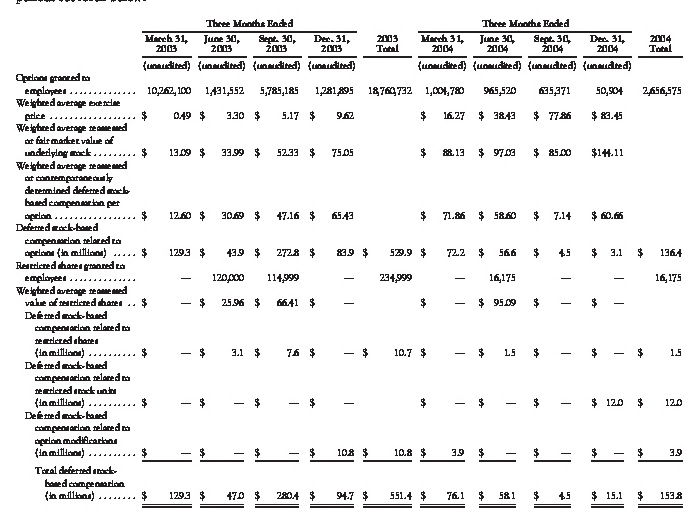table: (0, 0, 700, 523)
